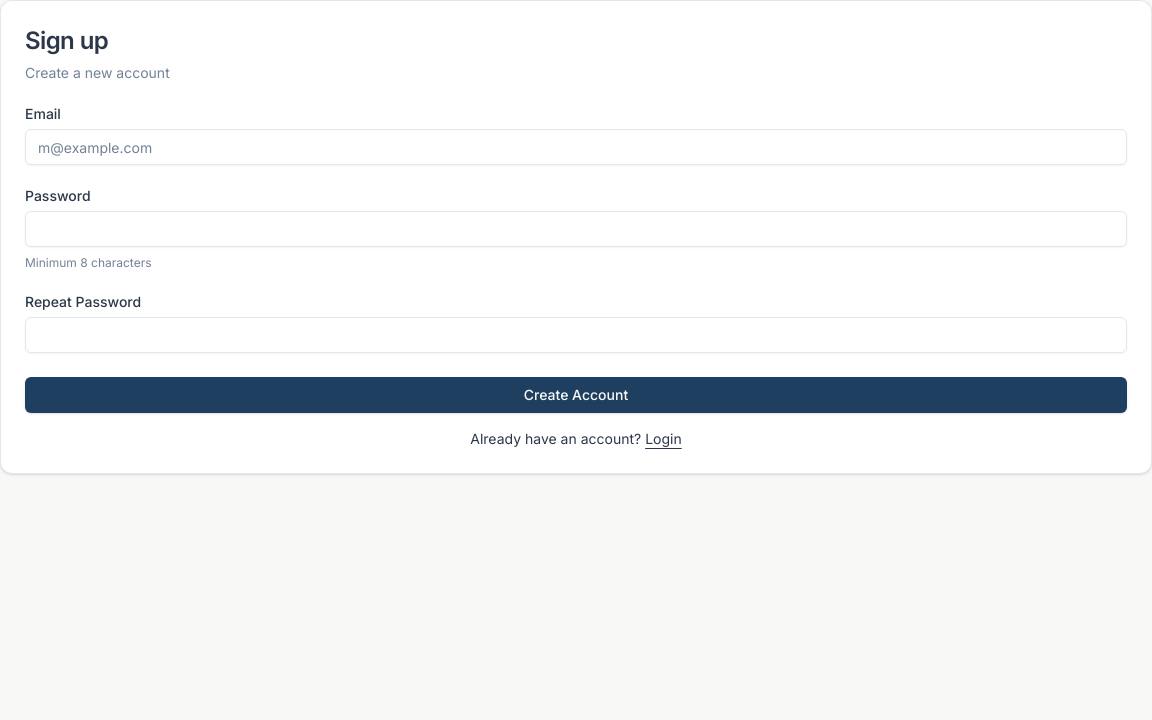
Test: SignUpForm › password validation › shows error when password is less than 8 characters
Type "test@example.com" into the field labelled "Email". click: [576, 147]
box: [25,129,1127,165]
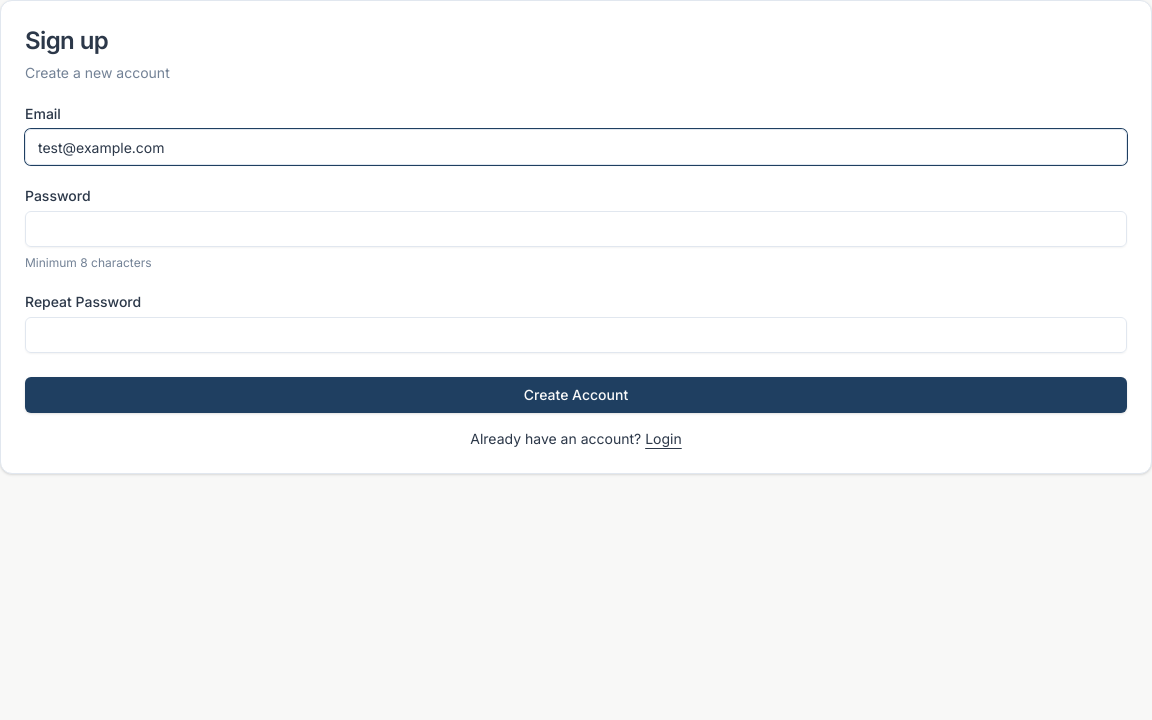
Type "short" into the password field labelled "Password". click: [576, 229]
box: [25,211,1127,247]
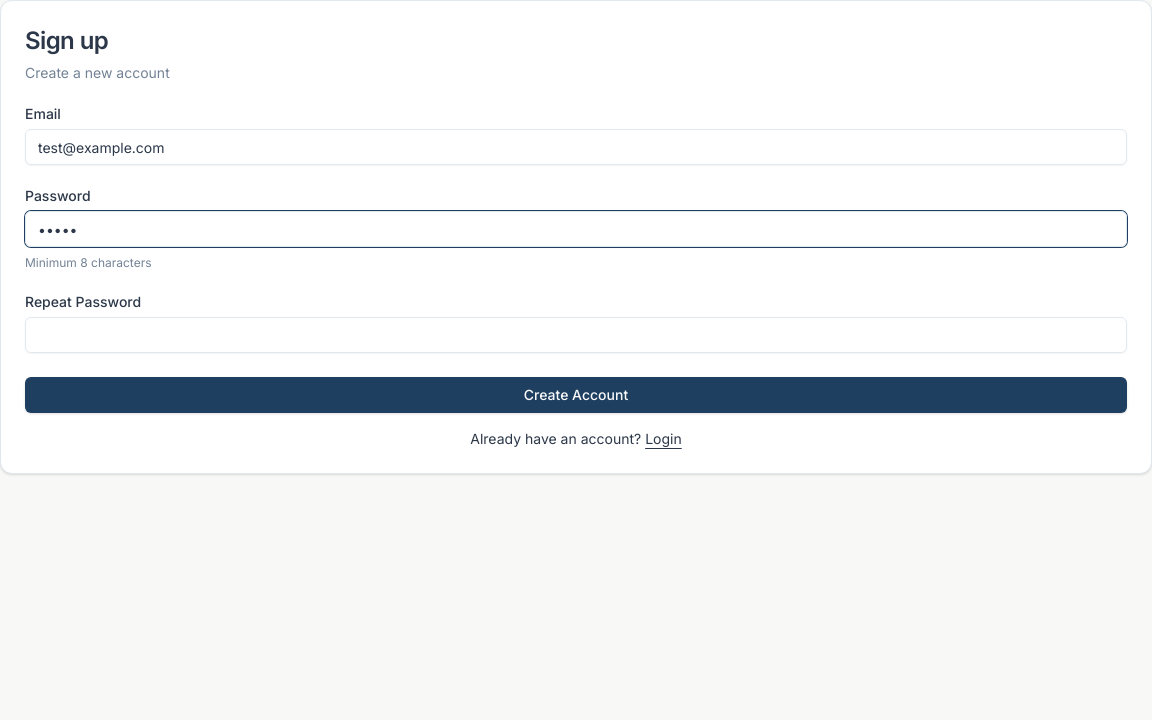
Type "short" into the password field labelled "Repeat Password". click: [576, 335]
box: [25,317,1127,353]
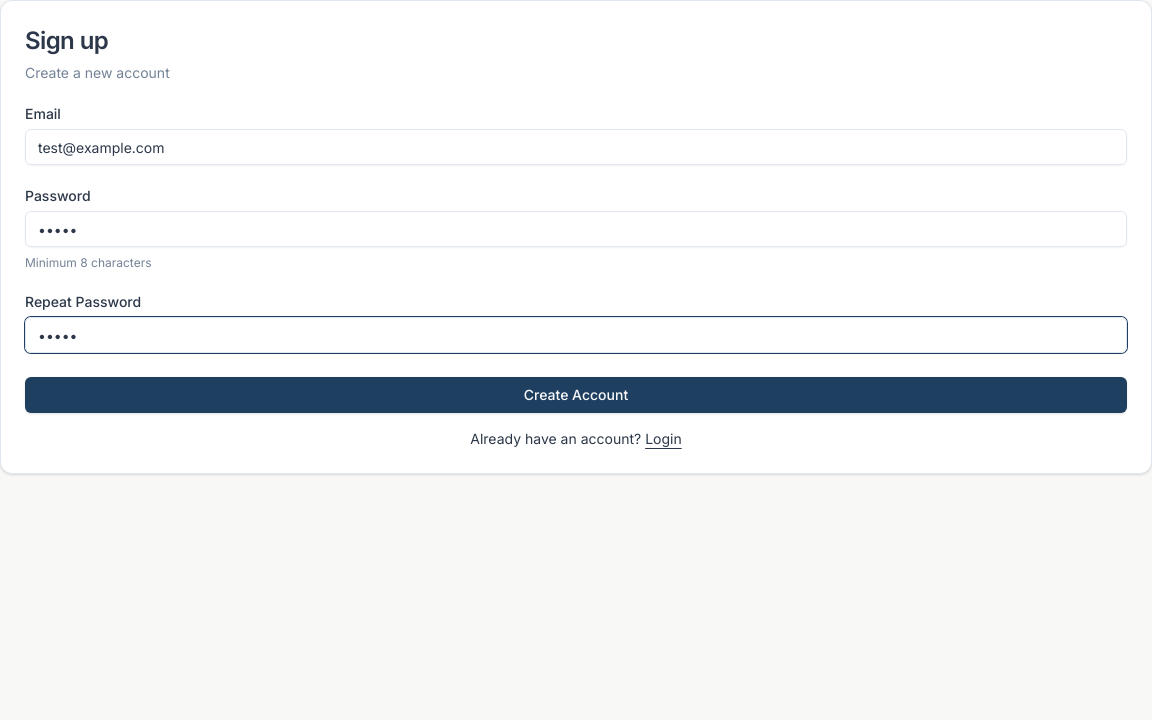
Click the button "Create Account". click: [576, 395]
box: [25,377,1127,413]
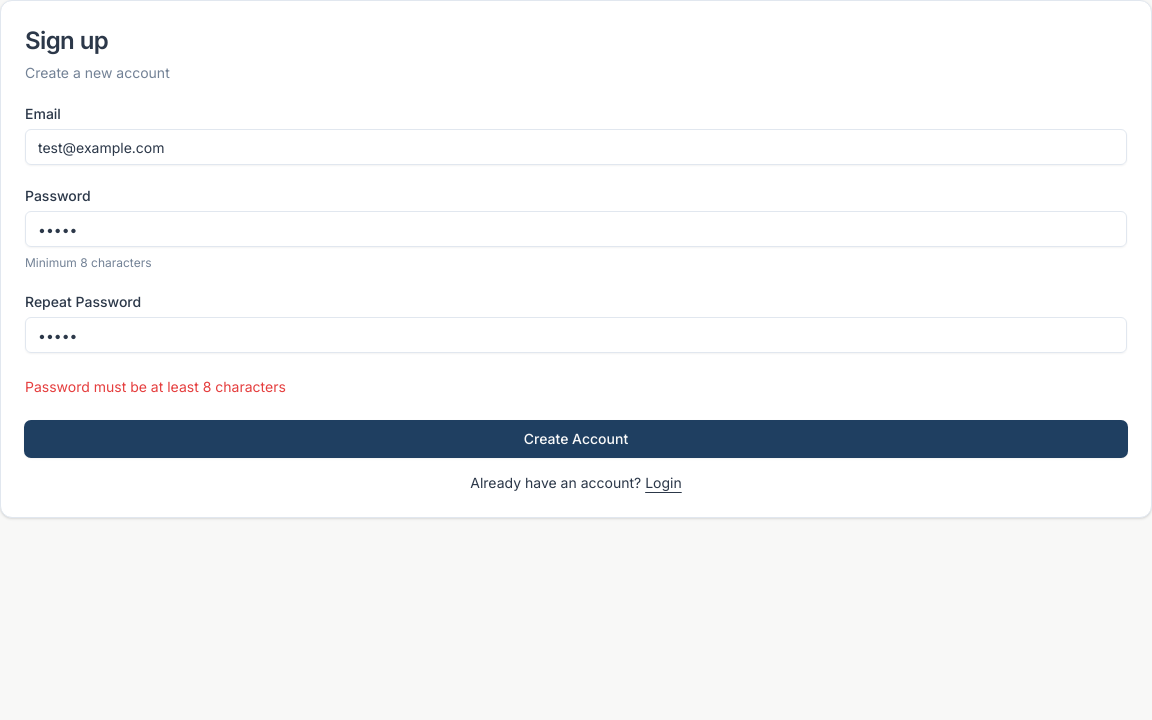
Now the text "Password must be at least 8 characters" is shown, box [25,378,286,395]
